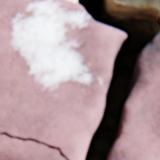broken_brick: (0, 0, 124, 159), (109, 35, 159, 159), (0, 136, 64, 159)
crack: (77, 0, 159, 159), (0, 133, 68, 159)
